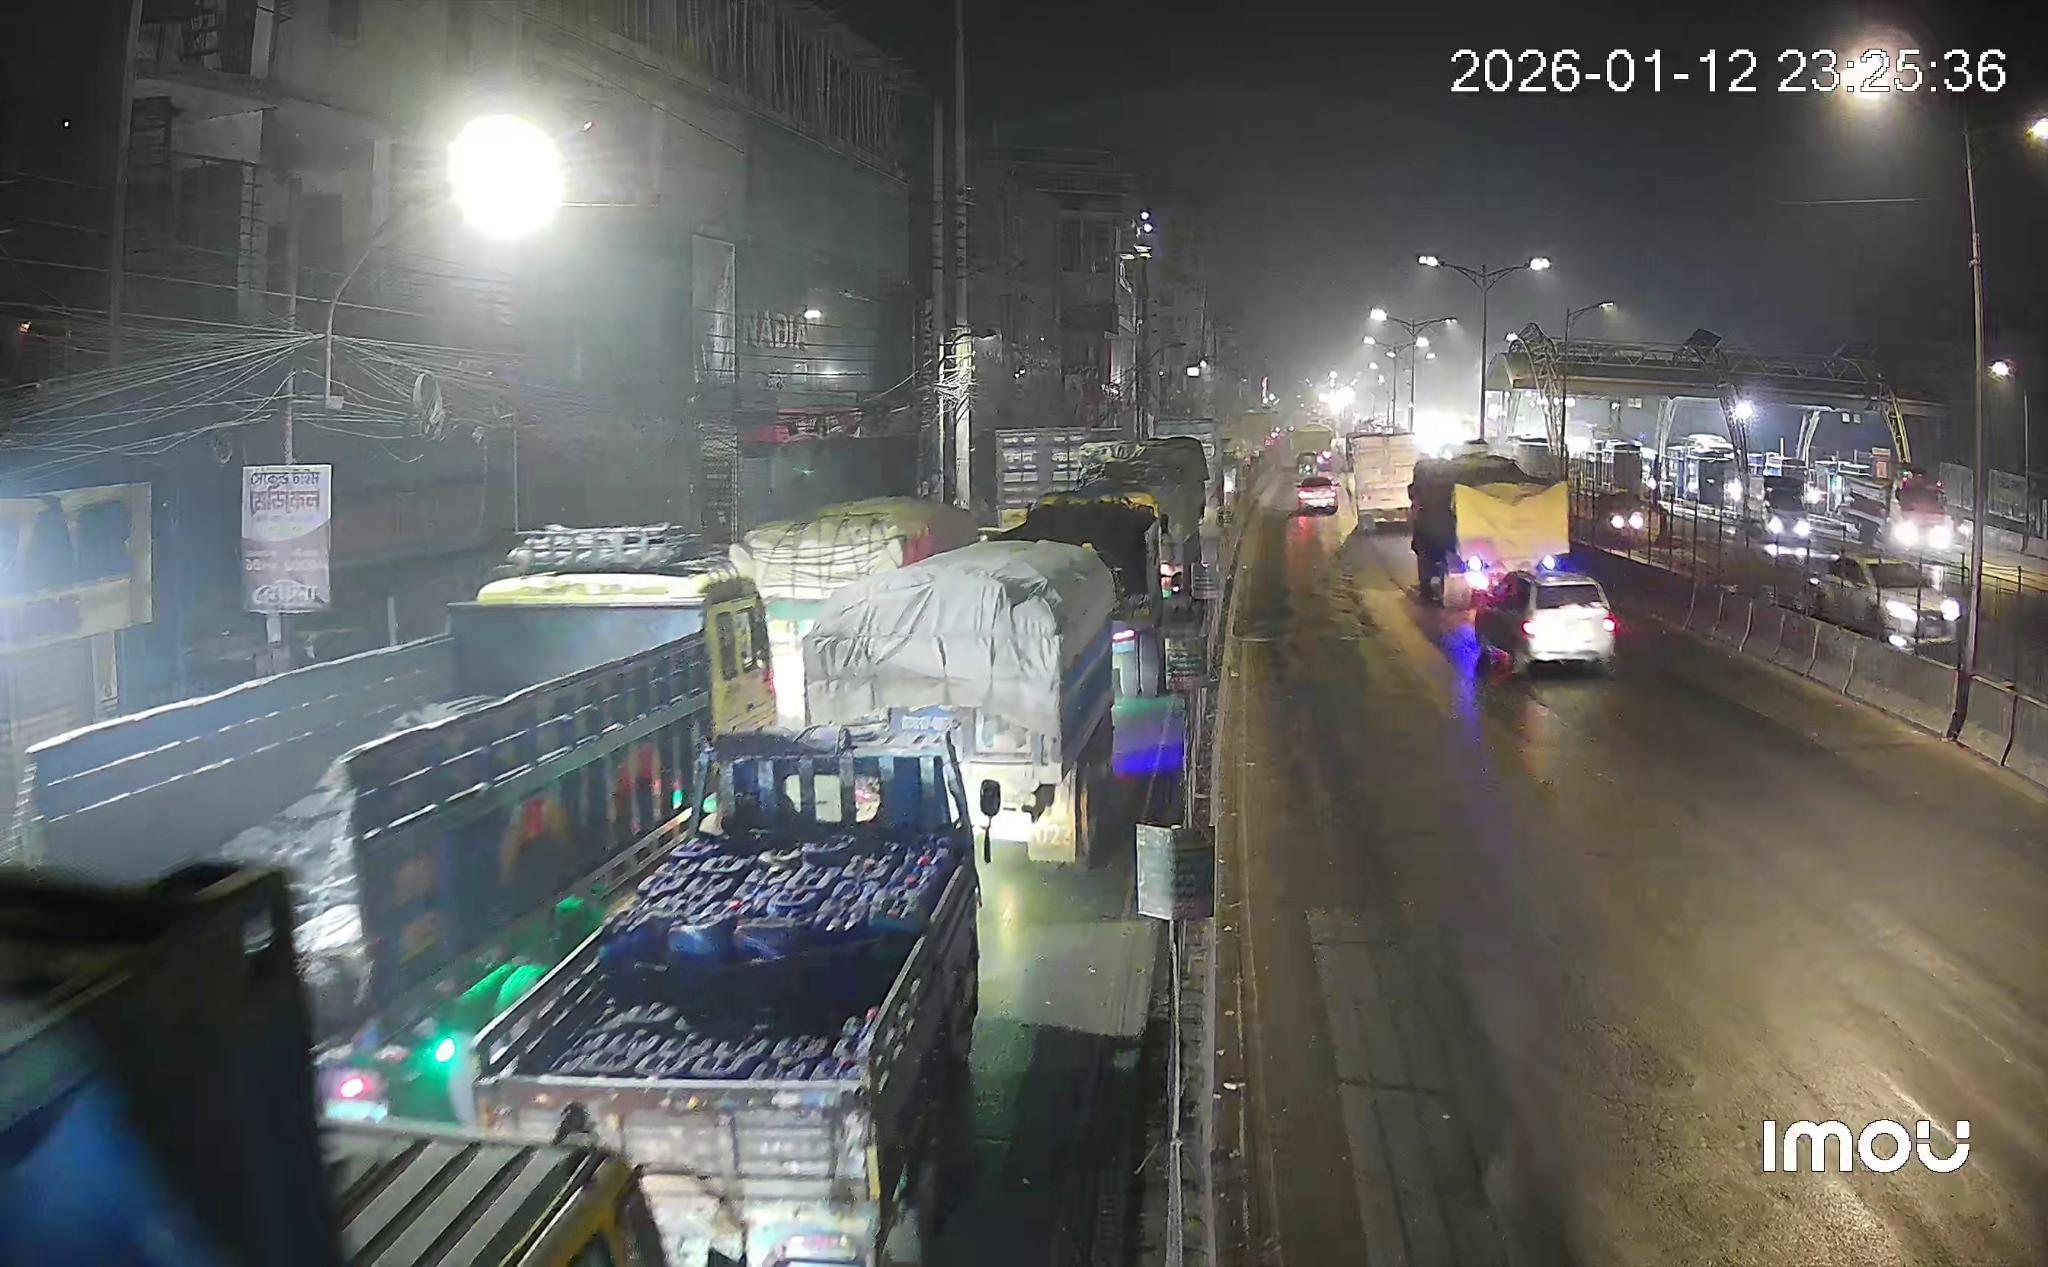Private-Sedan Car: (1473, 571, 1618, 672), (1811, 557, 1962, 647)
Truck: (7, 571, 777, 1050), (474, 723, 979, 1267), (802, 540, 1121, 860), (1409, 443, 1568, 604)
